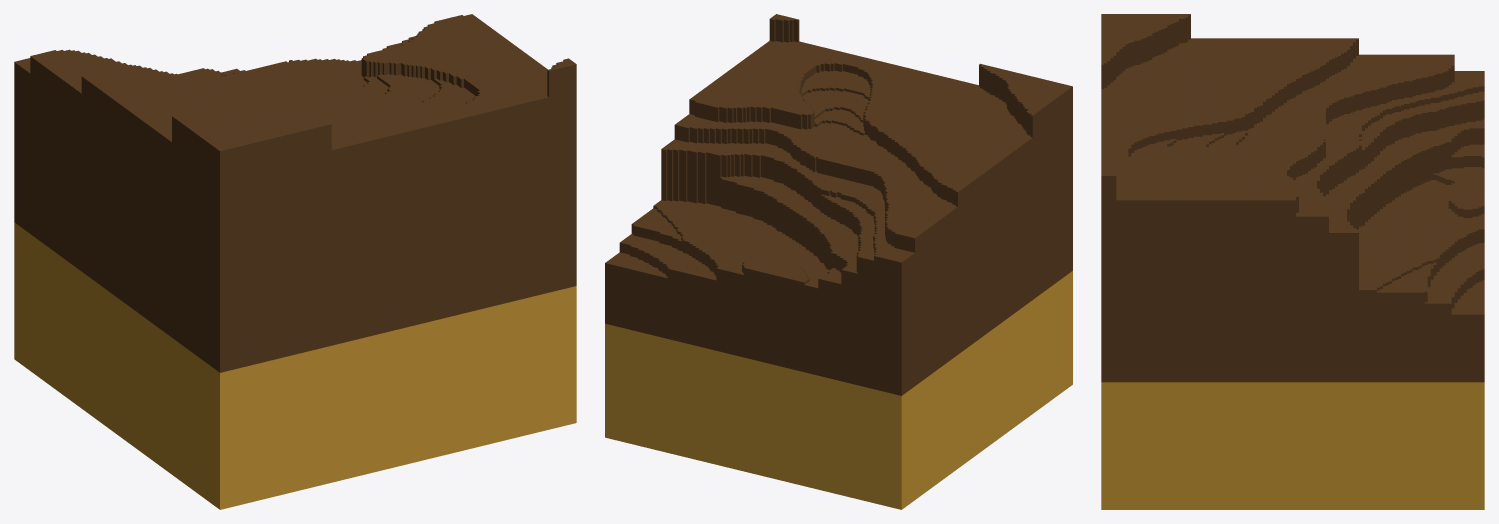
The picture shows the model from 3 angles, left to right: view 1: azimuth 30°, elevation 25°; view 2: azimuth 150°, elevation 25°; view 3: azimuth 270°, elevation 25°; orthographic projection. The views are drawn at different scales.
Visible parts, largest first — view 1: 7O; view 2: 7O; view 3: 7O.
Boxes of the visible parts, x1,y1,x2,y2 form: 7O: [14, 14, 576, 509]; 7O: [605, 14, 1072, 509]; 7O: [1101, 14, 1484, 509].
Bounding box in the file's own units: 12.8 × 12.3 × 12.8.
1 material, 1 textured.
